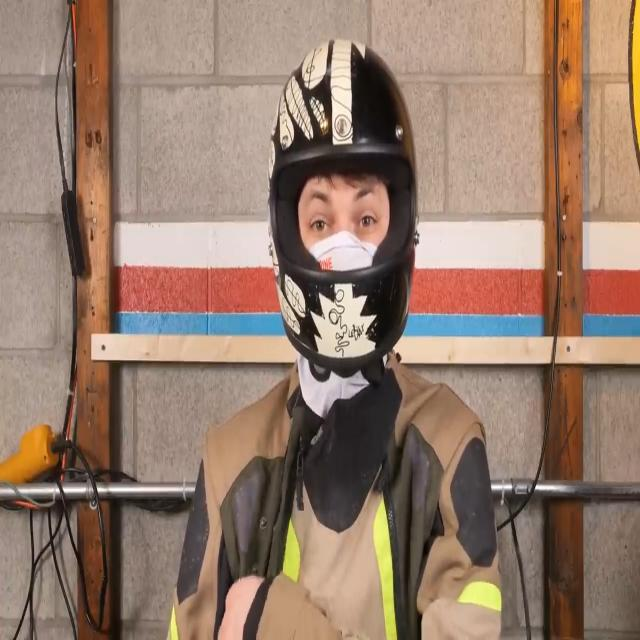Helmet_Wearer: (262, 30, 420, 383)
Person: (178, 39, 508, 640)
